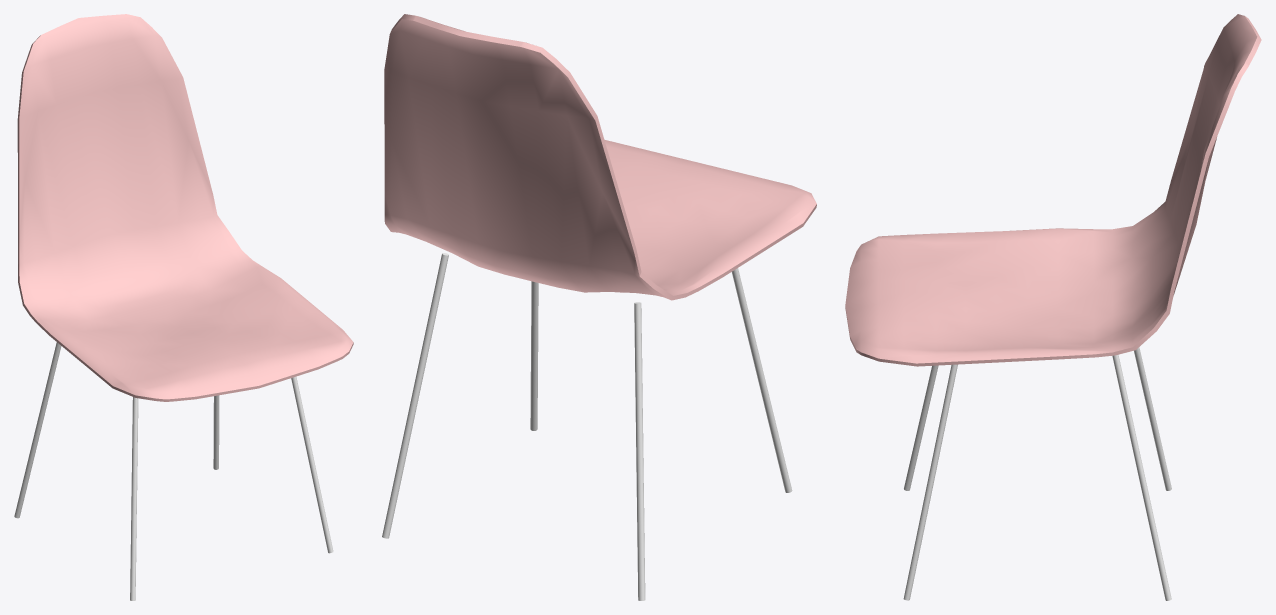
File: seat3.dae
3 views of the same model, side by side, from view 1: azimuth 30°, elevation 25°; view 2: azimuth 150°, elevation 25°; view 3: azimuth 270°, elevation 25° (orthographic). The views are drawn at different scales.
Visible parts, largest first — view 1: Component_1, group_1, group_0, group_3, group_2; view 2: Component_1, group_3, group_2, group_1, group_0; view 3: Component_1, group_2, group_0, group_3, group_1.
Part boxes in pixels (<box>): Component_1: <box>17,14,353,401</box>; group_1: <box>130,397,138,600</box>; group_0: <box>291,376,333,553</box>; group_3: <box>14,342,61,518</box>; group_2: <box>213,395,219,469</box>; Component_1: <box>384,14,816,300</box>; group_3: <box>634,302,645,600</box>; group_2: <box>382,253,448,538</box>; group_1: <box>732,268,792,492</box>; group_0: <box>530,281,538,430</box>; Component_1: <box>845,14,1261,366</box>; group_2: <box>1112,354,1171,600</box>; group_0: <box>903,364,957,600</box>; group_3: <box>1134,347,1171,490</box>; group_1: <box>904,365,938,490</box>.
Size of the model in its own units: 0.46 by 0.8524 by 0.6321.
